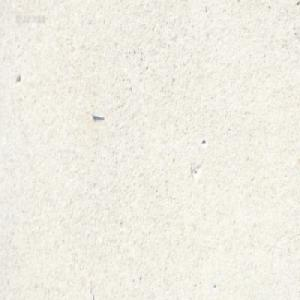Nail: (91, 111, 104, 119)
